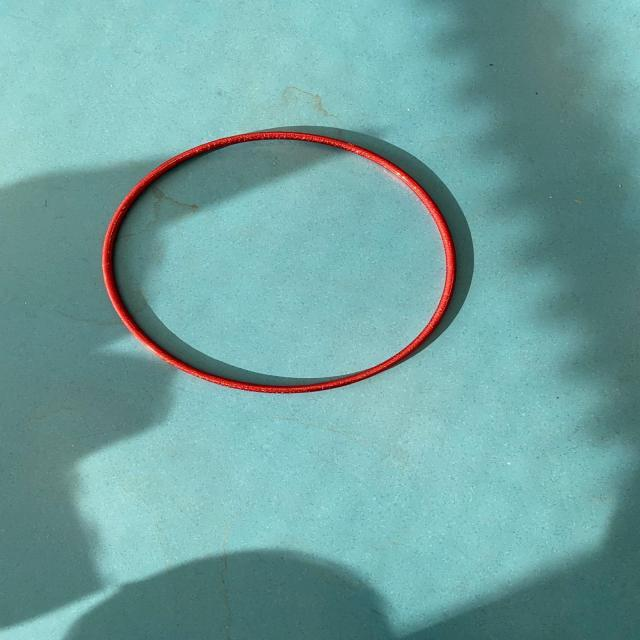redcircle: (98, 125, 462, 398)
